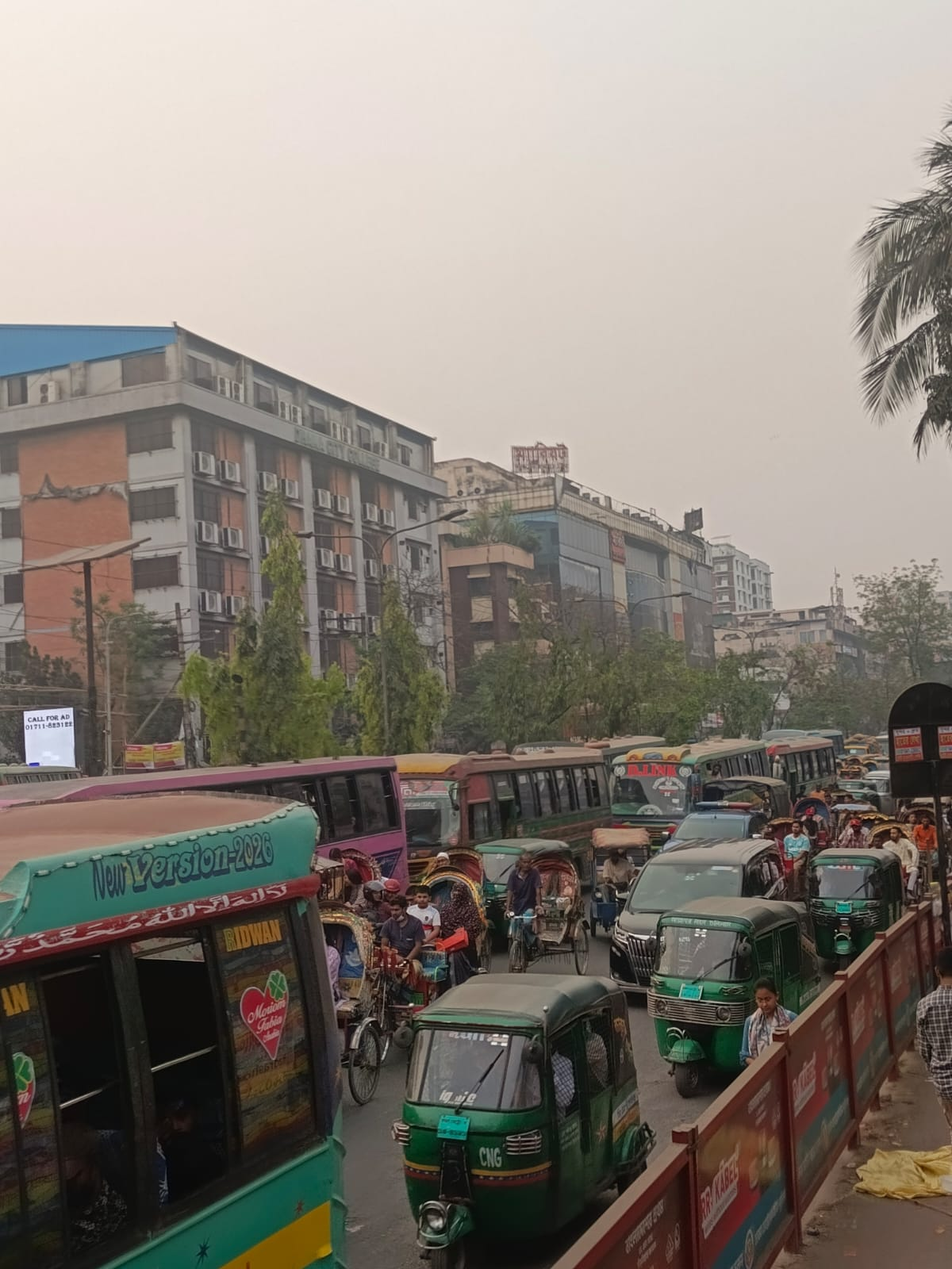Bus: (0, 749, 334, 1269), (40, 709, 413, 924), (368, 722, 618, 842), (603, 738, 848, 795)
Police cars: (664, 767, 794, 867)
auto-ricksaw: (304, 865, 504, 1047), (476, 839, 590, 986), (590, 813, 649, 934)
cng: (420, 947, 641, 1260), (627, 870, 855, 1087), (804, 836, 922, 969), (859, 762, 910, 828)
